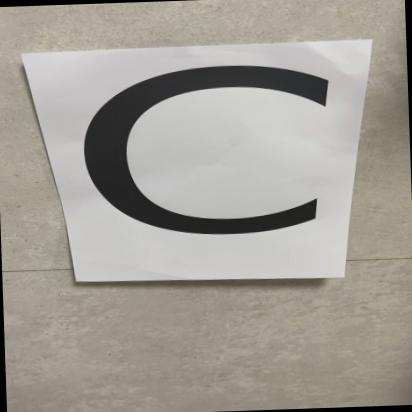seat: (36, 50, 353, 283)
